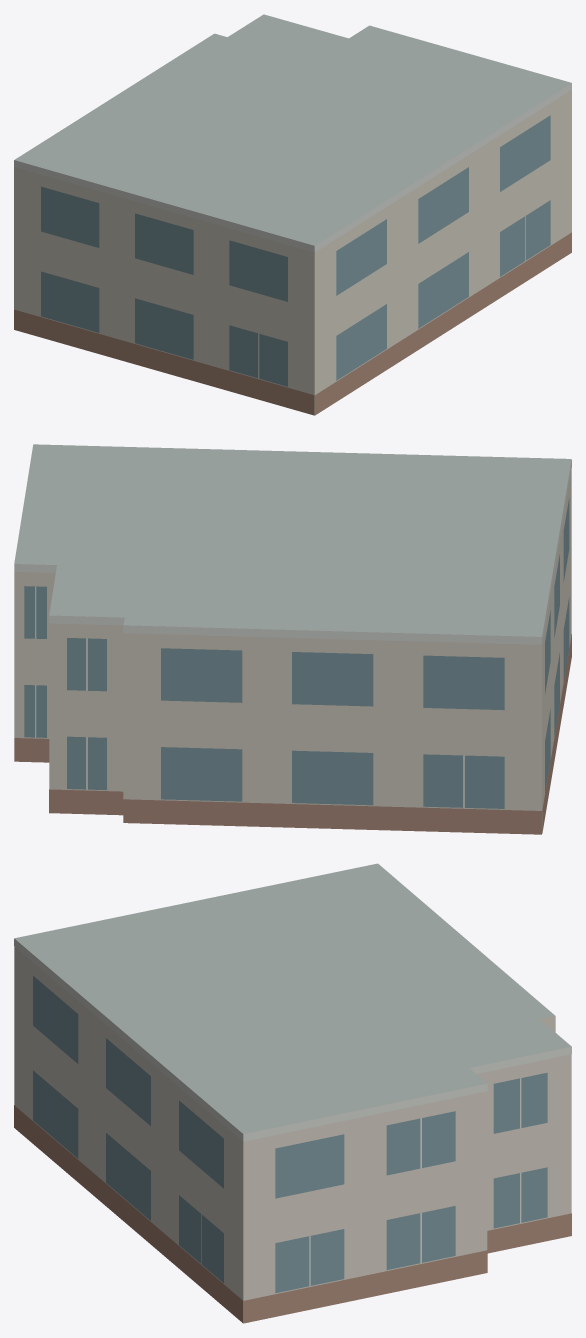
File: survey-upis-32704780.glb
The picture shows the model from 3 angles, top to bottom: view 1: azimuth 30°, elevation 25°; view 2: azimuth 150°, elevation 25°; view 3: azimuth 270°, elevation 25°; orthographic projection. The views are drawn at different scales.
Visible parts, largest first — view 1: survey-upis-32704780.tmp; view 2: survey-upis-32704780.tmp; view 3: survey-upis-32704780.tmp.
Part boxes in pixels (left/top/right/bottom): survey-upis-32704780.tmp: left=14, top=14, right=571, bottom=415; survey-upis-32704780.tmp: left=14, top=444, right=571, bottom=834; survey-upis-32704780.tmp: left=14, top=863, right=571, bottom=1323.
Bounding box in the file's own units: 18.71 × 6.1 × 16.29.
